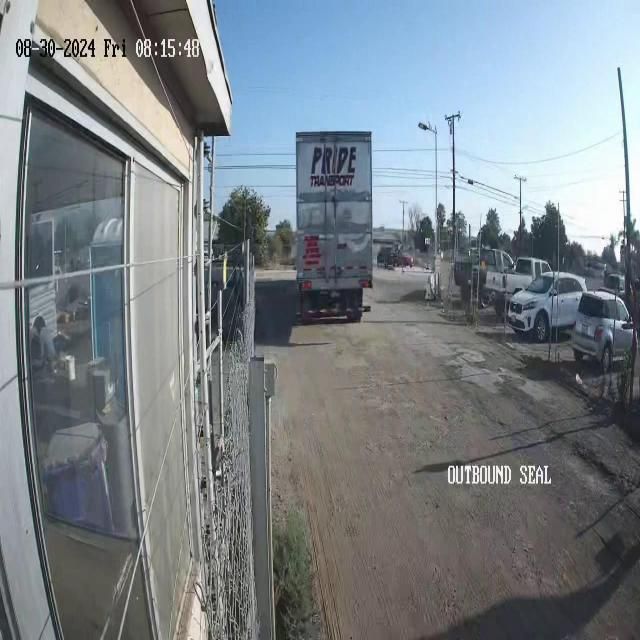TRUCK_OUT: (294, 129, 374, 324)
